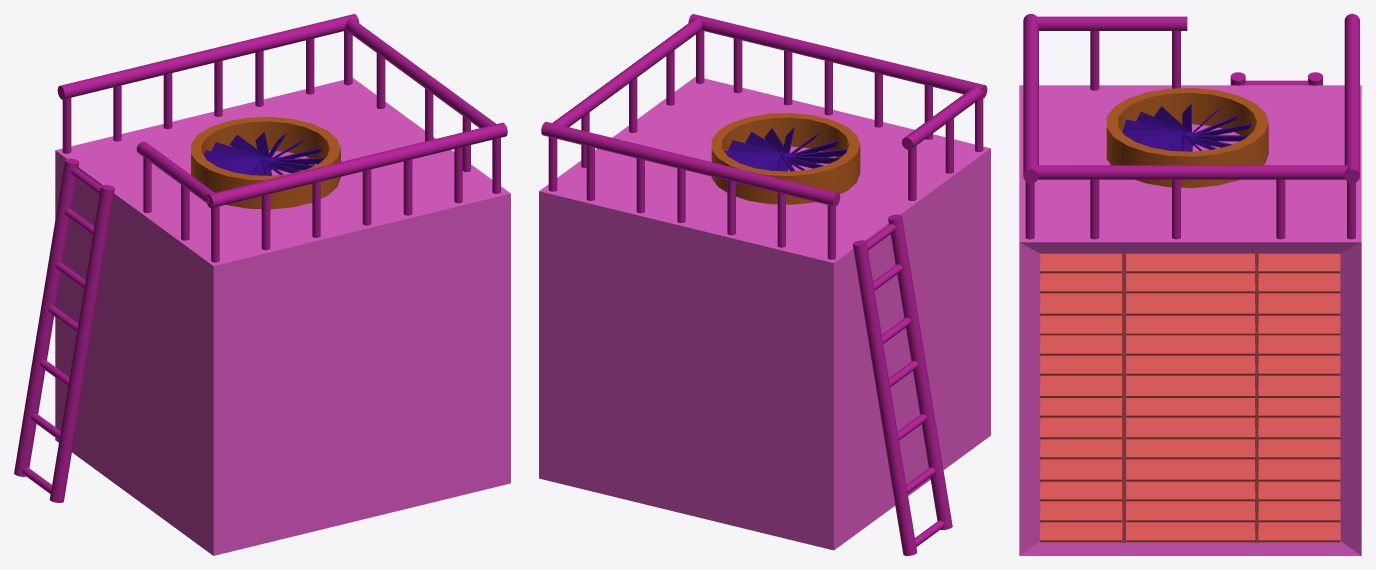
File: Vent.obj
3 views of the same model, side by side, from view 1: azimuth 30°, elevation 25°; view 2: azimuth 150°, elevation 25°; view 3: azimuth 270°, elevation 25° (orthographic). The views are drawn at different scales.
Visible parts, largest first — view 1: Vent01, Rails, Ladder, Tube001, FanBlade013; view 2: Vent01, Rails, Ladder, Tube001, FanBlade013; view 3: Vents, Vent01, Rails, Tube001, FanBlade013, Vent33, Ladder.
Part boxes in pixels (left/top/right/bottom): Vent01: left=55, top=78, right=510, bottom=555; Rails: left=57, top=14, right=507, bottom=262; Ladder: left=14, top=158, right=114, bottom=502; Tube001: left=191, top=117, right=340, bottom=209; FanBlade013: left=204, top=132, right=325, bottom=175; Vent01: left=539, top=76, right=990, bottom=550; Rails: left=541, top=14, right=987, bottom=259; Ladder: left=852, top=214, right=952, bottom=555; Tube001: left=711, top=113, right=860, bottom=204; FanBlade013: left=724, top=128, right=847, bottom=171; Vents: left=1040, top=252, right=1340, bottom=542; Vent01: left=1019, top=85, right=1361, bottom=555; Rails: left=1023, top=14, right=1359, bottom=239; Tube001: left=1106, top=88, right=1268, bottom=187; FanBlade013: left=1122, top=104, right=1251, bottom=151; Vent33: left=1126, top=273, right=1255, bottom=293; Ladder: left=1230, top=72, right=1322, bottom=85.
Size of the model in its own units: 232 by 222 by 176.
